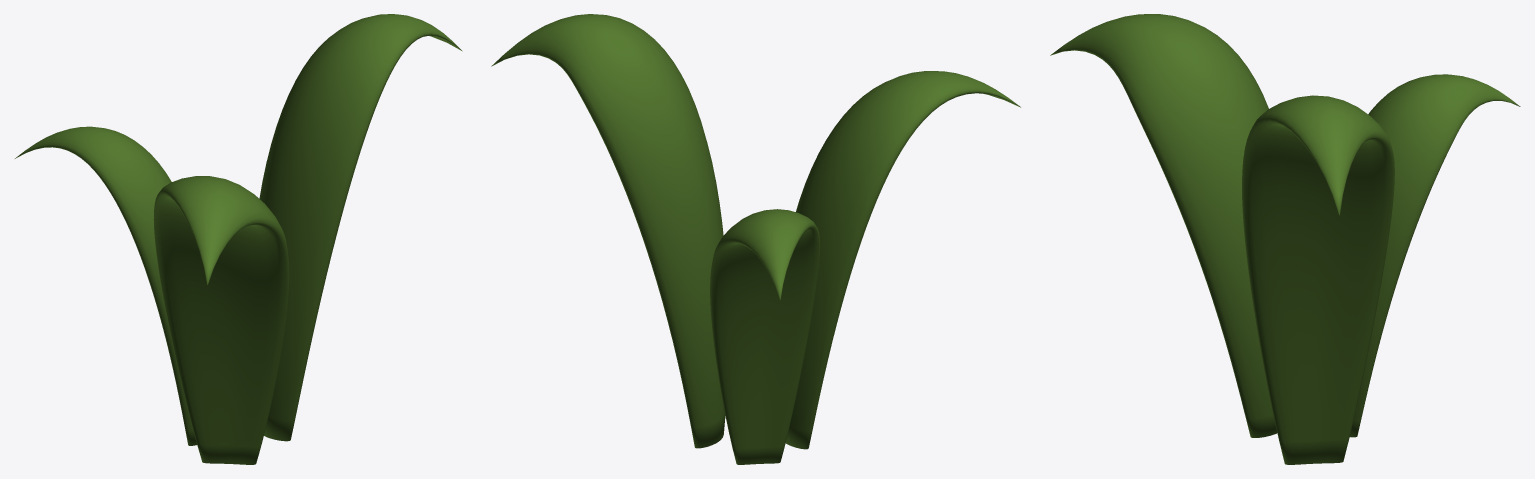
Rendered from SM_BankSatinGrass.fbx.
The picture shows the model from 3 angles, left to right: view 1: azimuth 30°, elevation 25°; view 2: azimuth 150°, elevation 25°; view 3: azimuth 270°, elevation 25°; orthographic projection. The views are drawn at different scales.
Visible parts, largest first — view 1: SM_BankSatinGrass; view 2: SM_BankSatinGrass; view 3: SM_BankSatinGrass.
Part boxes in pixels (x1,y1,x2,y2): SM_BankSatinGrass: [15, 14, 462, 464]; SM_BankSatinGrass: [491, 14, 1020, 464]; SM_BankSatinGrass: [1050, 14, 1520, 464].
Bounding box in the file's own units: 47.83 × 45.2 × 45.95.
